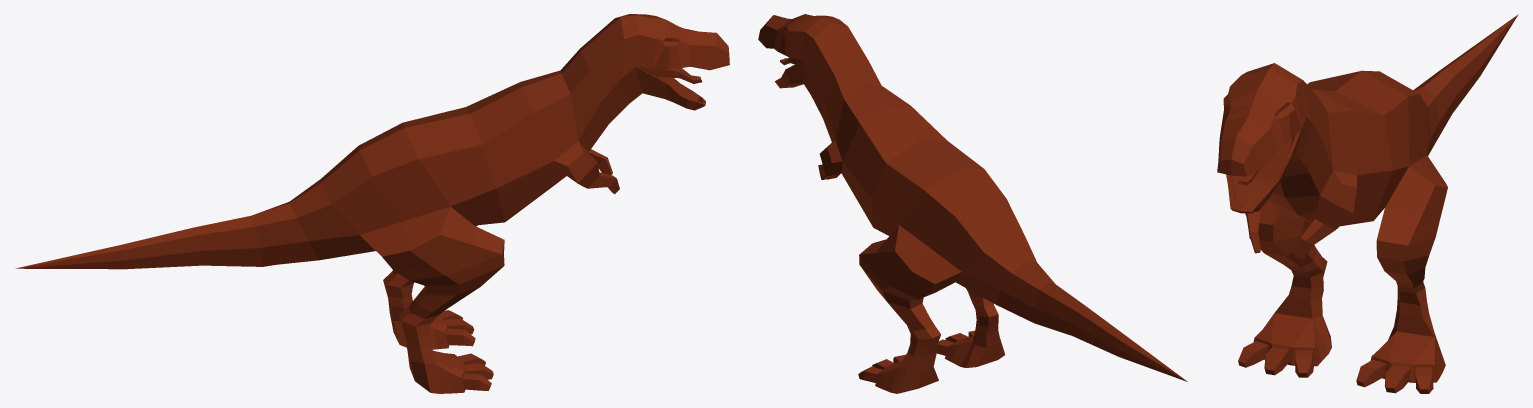
The model's file is Low Poly DIno Solo.fbx.
3 views of the same model, side by side, from view 1: azimuth 30°, elevation 25°; view 2: azimuth 150°, elevation 25°; view 3: azimuth 270°, elevation 25° (orthographic). The views are drawn at different scales.
Visible parts, largest first — view 1: Dino body; view 2: Dino body; view 3: Dino body.
Part boxes in pixels (<box>): Dino body: <box>15,14,729,393</box>; Dino body: <box>758,14,1187,393</box>; Dino body: <box>1217,14,1518,393</box>.
Size of the model in its own units: 941 by 496 by 349.
